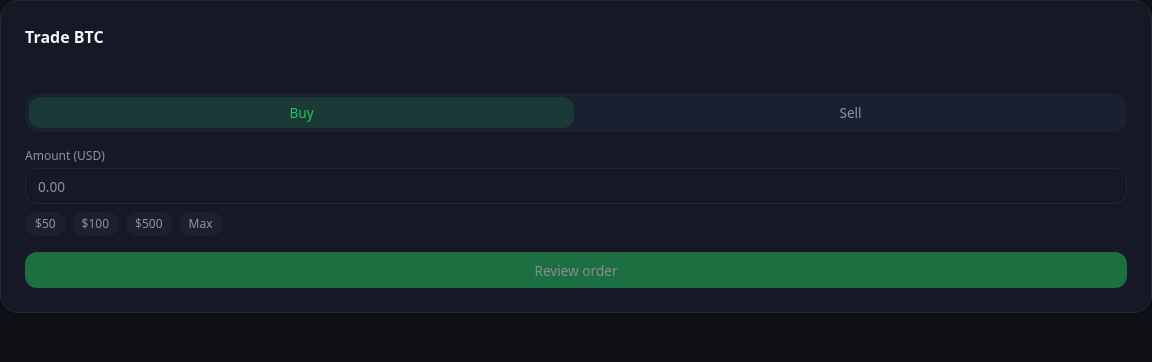
Test: OrderTicket › shows an inline error when selling more than held
Click the button "sell" at x=850, y=113, box [578,97,1123,128]
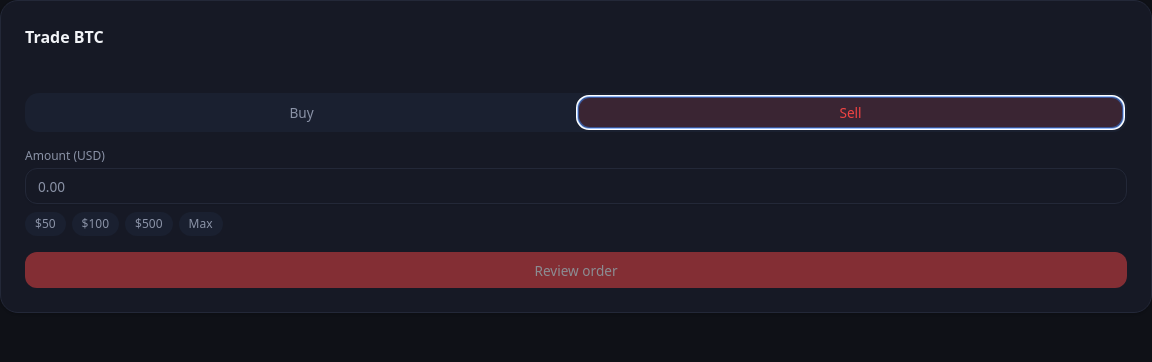
Type "600" into the field labelled "Amount (USD)" at x=576, y=186, box [25,168,1127,204]
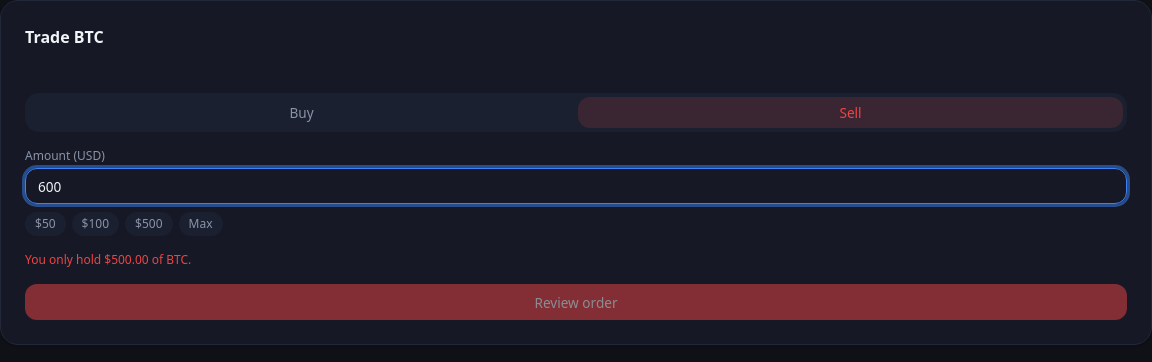
Result: the text "You only hold $500.00 of BTC." is shown at [25,251,191,268]
